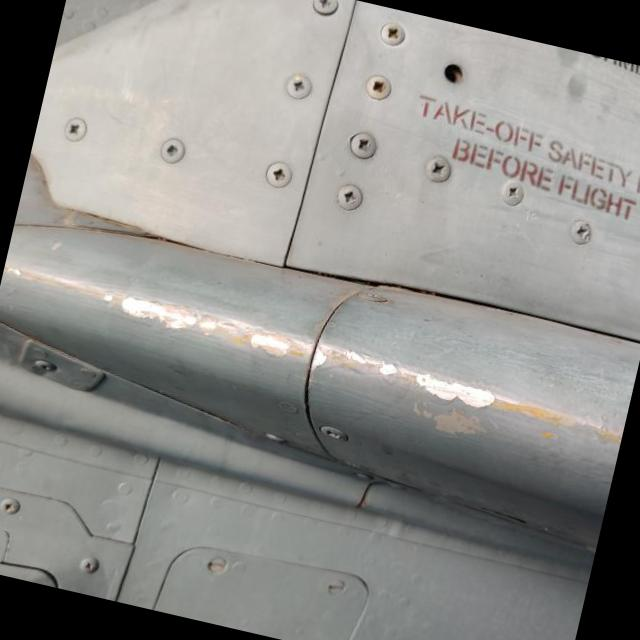Paint-off: (314, 346, 593, 430)
